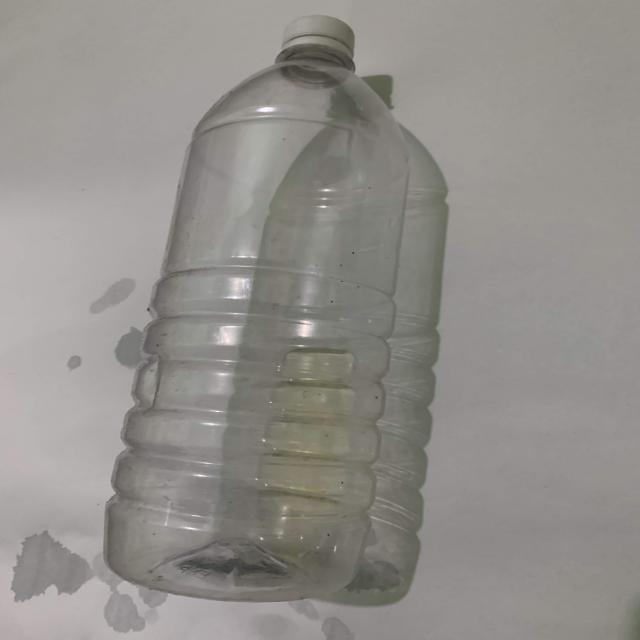bottle: (98, 0, 411, 630)
